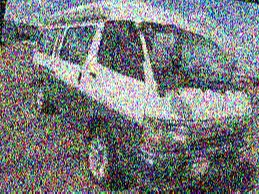van: (14, 0, 259, 194)
